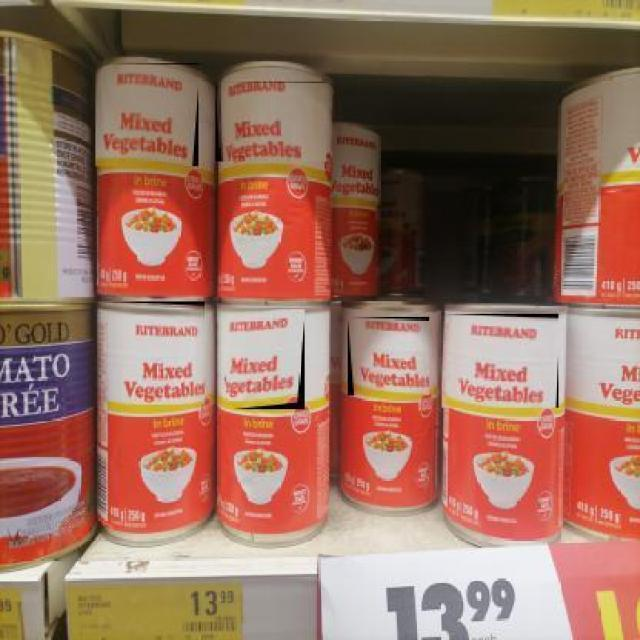Beans: (442, 314, 560, 410), (95, 64, 200, 168), (108, 302, 206, 406), (215, 82, 328, 164), (226, 309, 306, 410), (347, 316, 432, 398)
